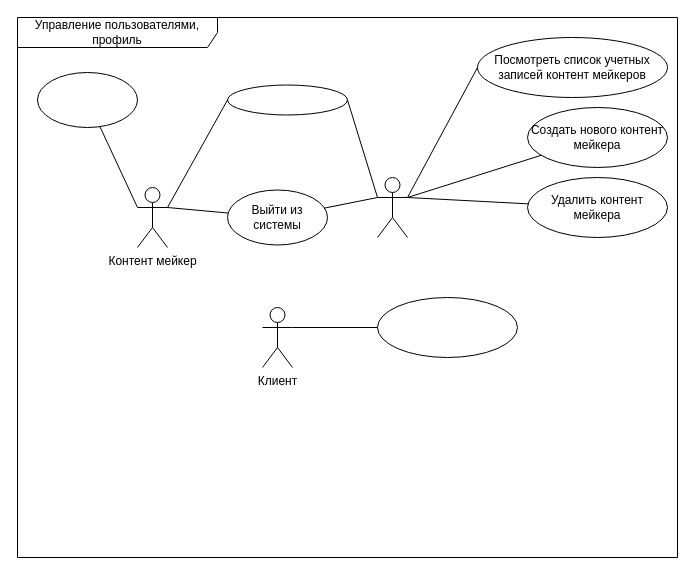
Some shapes in this 695 by 575 pixel diagram are drawn without their labels. Each missing label, with the centre of its shape:
"Авторизация" belongs at point 447,327.
"Администратор" belongs at point 392,207.
"Посмотреть свой профиль" belongs at point 87,100.
"Сменить свой пароль" belongs at point 287,99.
